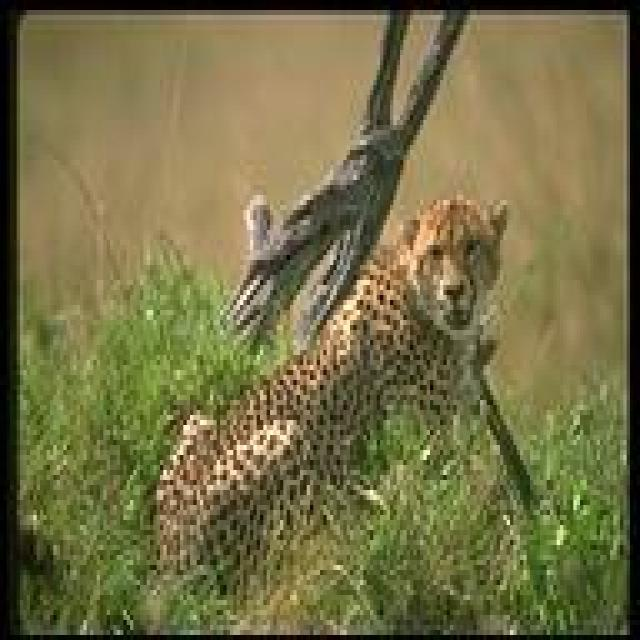Leopard: (146, 175, 514, 596)
